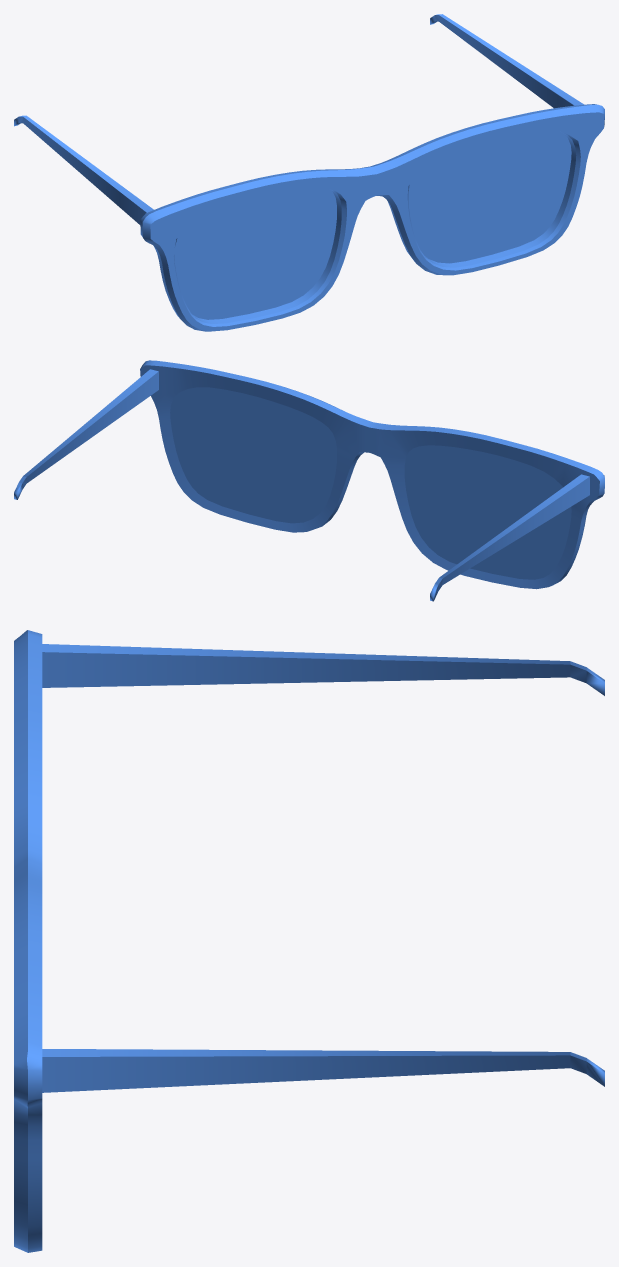
File: Glasses-textured.fbx
3 views of the same model, one above another, from view 1: azimuth 30°, elevation 25°; view 2: azimuth 150°, elevation 25°; view 3: azimuth 270°, elevation 25° (orthographic). The views are drawn at different scales.
Visible parts, largest first — view 1: Glasses; view 2: Glasses; view 3: Glasses.
Part boxes in pixels (<box>): Glasses: <box>14,14,604,331</box>; Glasses: <box>14,360,604,601</box>; Glasses: <box>14,630,604,1252</box>.
Bounding box in the file's own units: 1579 × 468 × 908.
